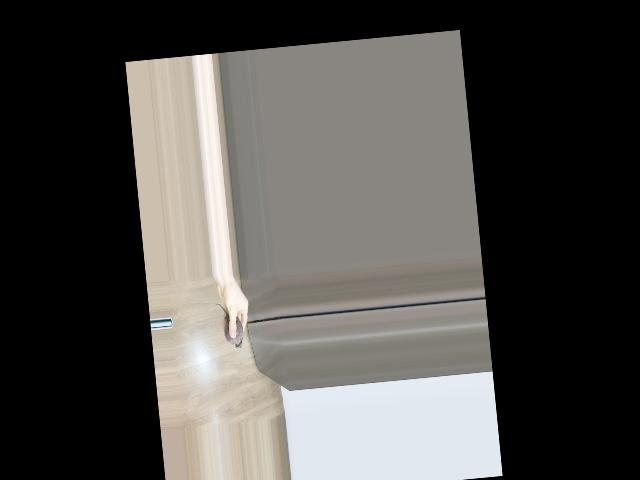beet: (215, 302, 244, 350)
